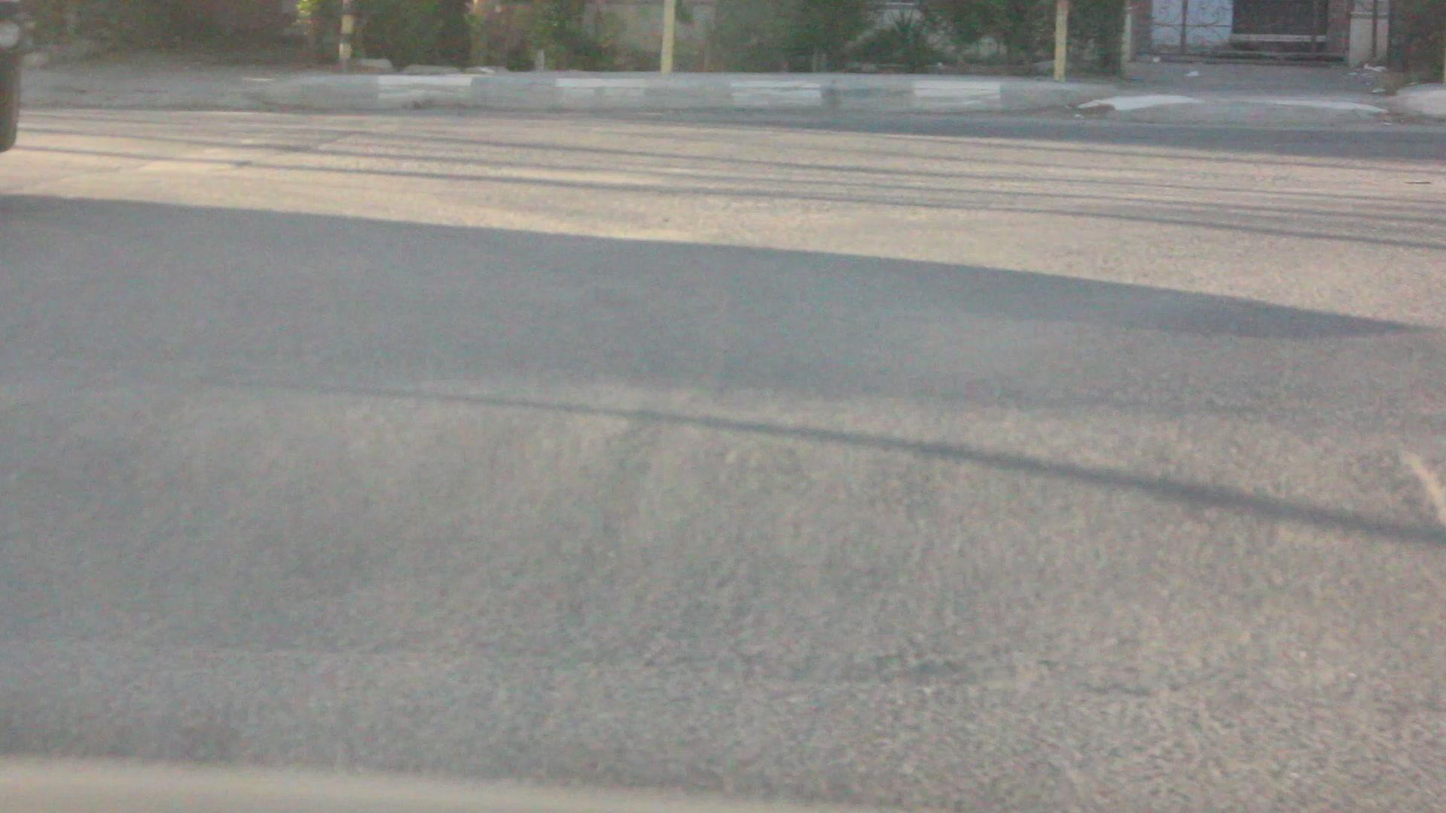Bump: (24, 414, 1376, 629)
